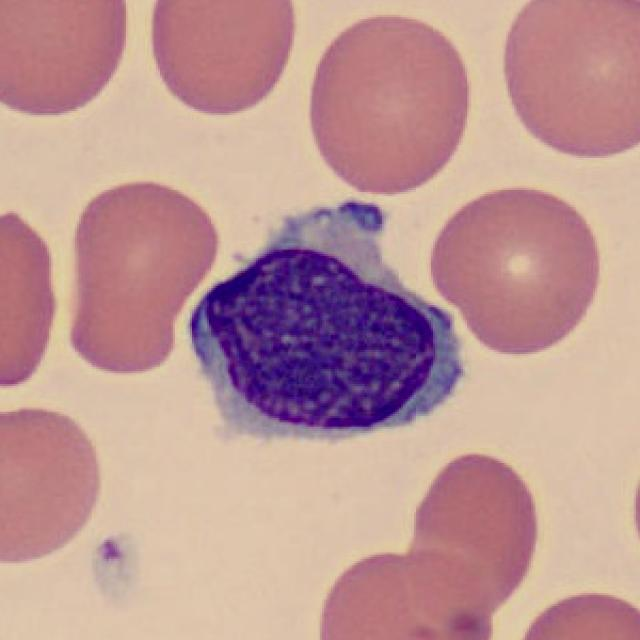WBC: (168, 184, 476, 450)
